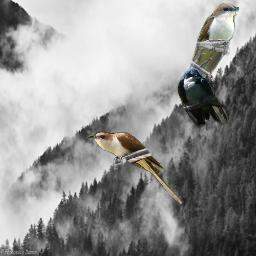Cuckoo: (87, 131, 184, 205), (178, 2, 239, 101)
Swallow: (176, 67, 230, 131)
